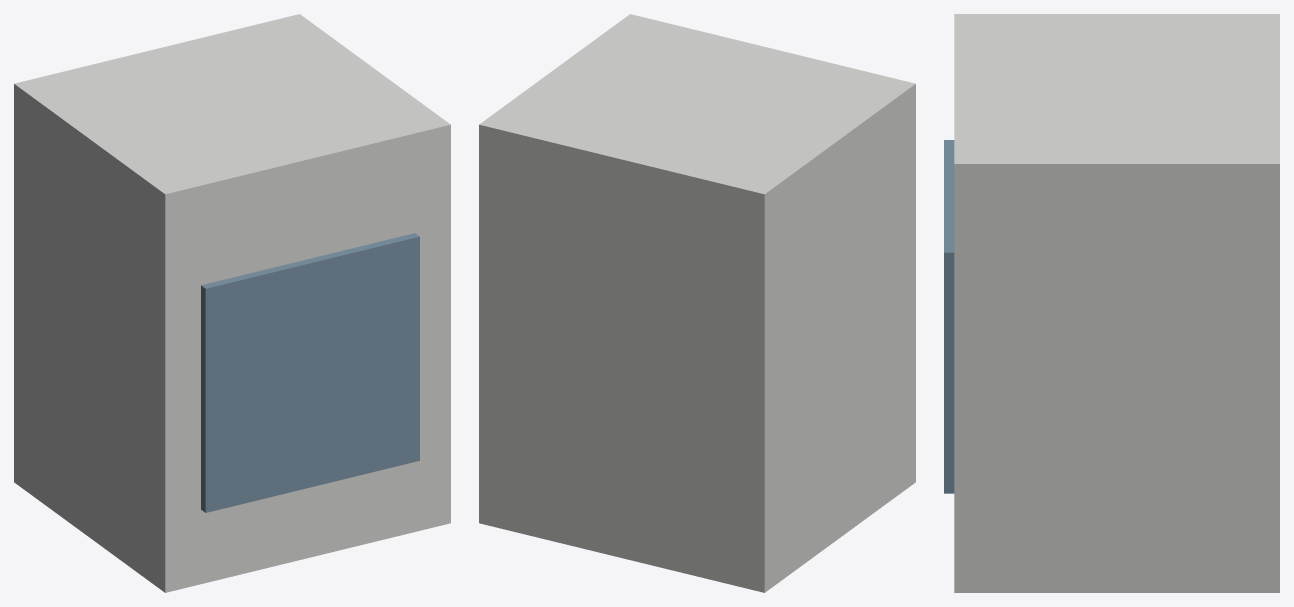
The model's file is washer.fbx.
3 renders of one model, left to right at view 1: azimuth 30°, elevation 25°; view 2: azimuth 150°, elevation 25°; view 3: azimuth 270°, elevation 25°, orthographic. The views are drawn at different scales.
Parts seen in each view (by area): view 1: washer; view 2: washer; view 3: washer.
Part boxes in pixels (x1,y1,x2,y2): washer: (14, 14, 450, 592); washer: (479, 14, 915, 592); washer: (944, 14, 1279, 592).
Size of the model in its own units: 0.12 by 0.16 by 0.1135.
